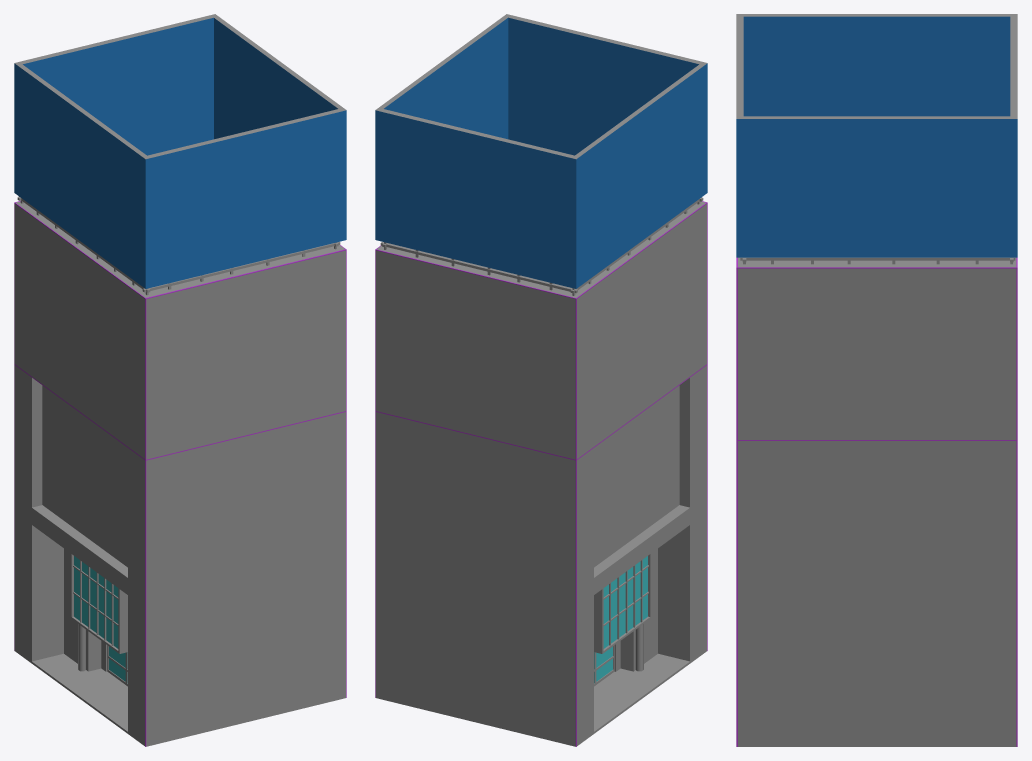
File: BuildingM_01.fbx
The picture shows the model from 3 angles, left to right: view 1: azimuth 30°, elevation 25°; view 2: azimuth 150°, elevation 25°; view 3: azimuth 270°, elevation 25°; orthographic projection. The views are drawn at different scales.
Parts seen in each view (by area): view 1: BuildingM_01; view 2: BuildingM_01; view 3: BuildingM_01.
Boxes of the visible parts, bbox=[...] form: BuildingM_01: bbox=[14, 14, 346, 746]; BuildingM_01: bbox=[375, 14, 707, 746]; BuildingM_01: bbox=[736, 14, 1017, 746].
Size of the model in its own units: 0.3175 by 0.8866 by 0.3596.
